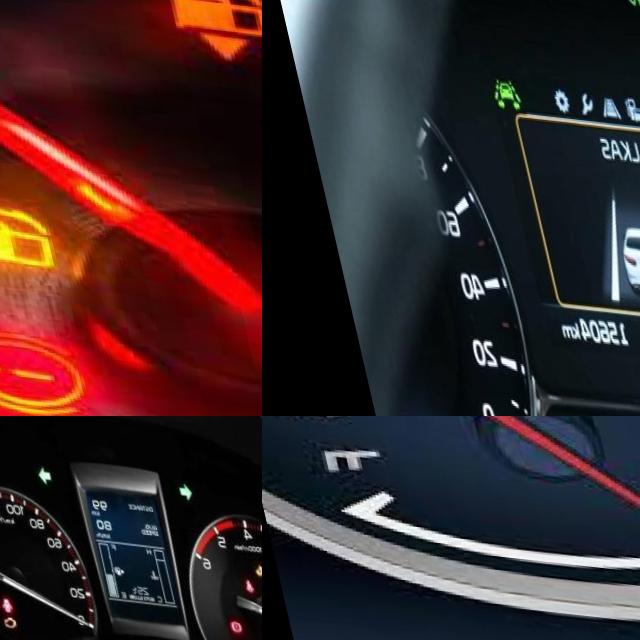Seat Belt: (228, 569, 240, 583)
